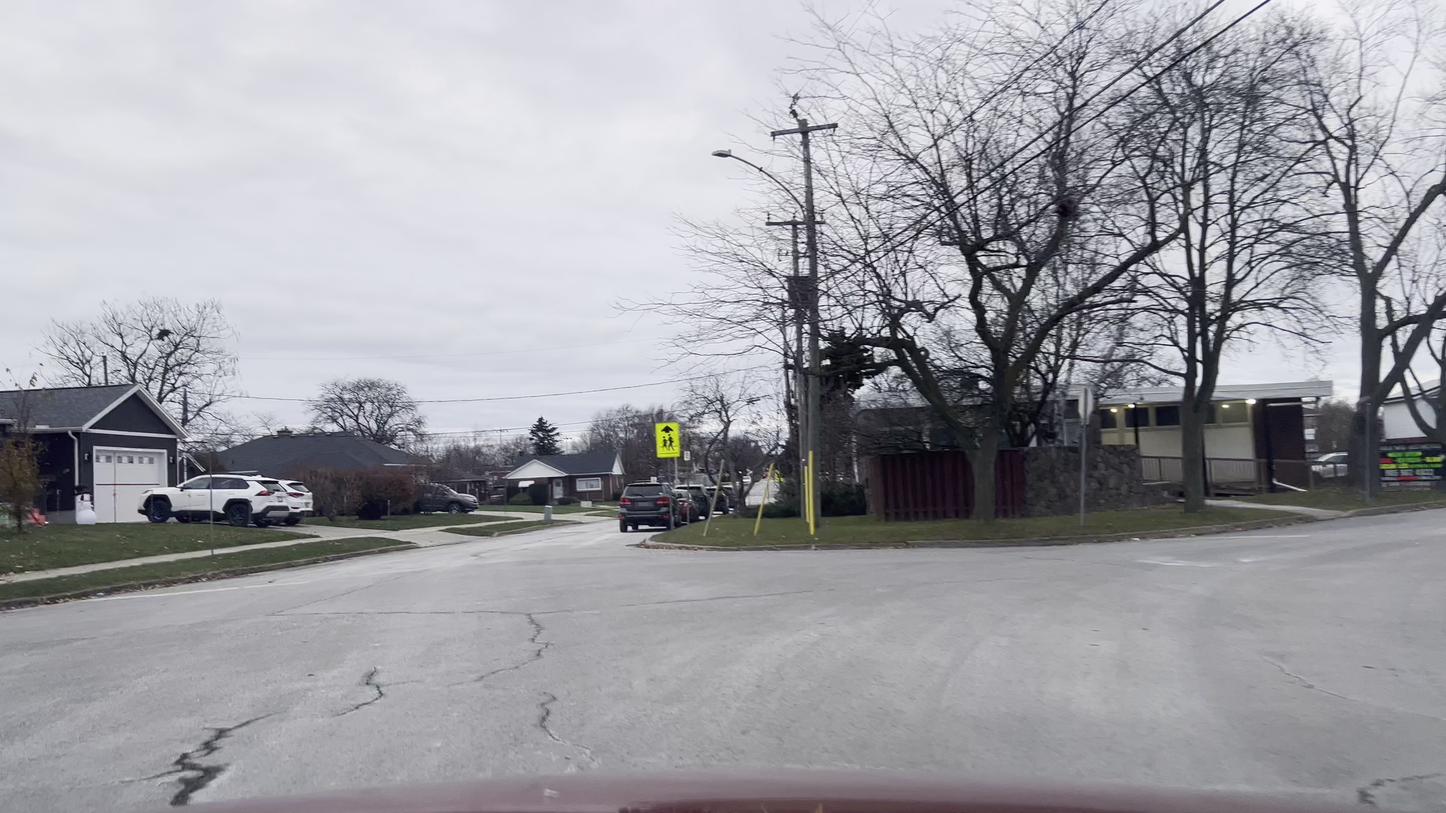cracks: (147, 711, 239, 804), (523, 686, 573, 746), (519, 607, 555, 683), (362, 660, 388, 722)
